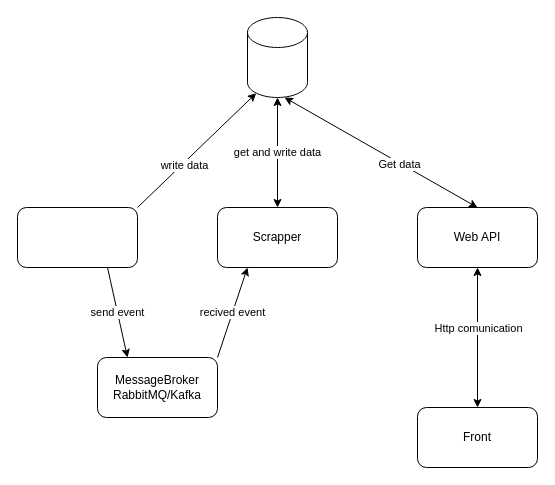
This 555x485 diagram has some shape labels left out. The shapes that lost their labels are listed below. From the top down, each one's centre as x and y in pixels, then its label:
At (277,57): "Mongo".
At (77,237): "Crawler".
